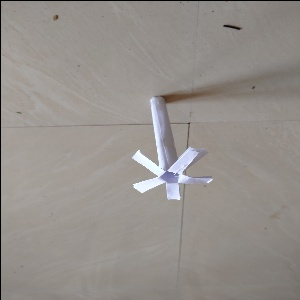weed: (124, 94, 210, 200)
